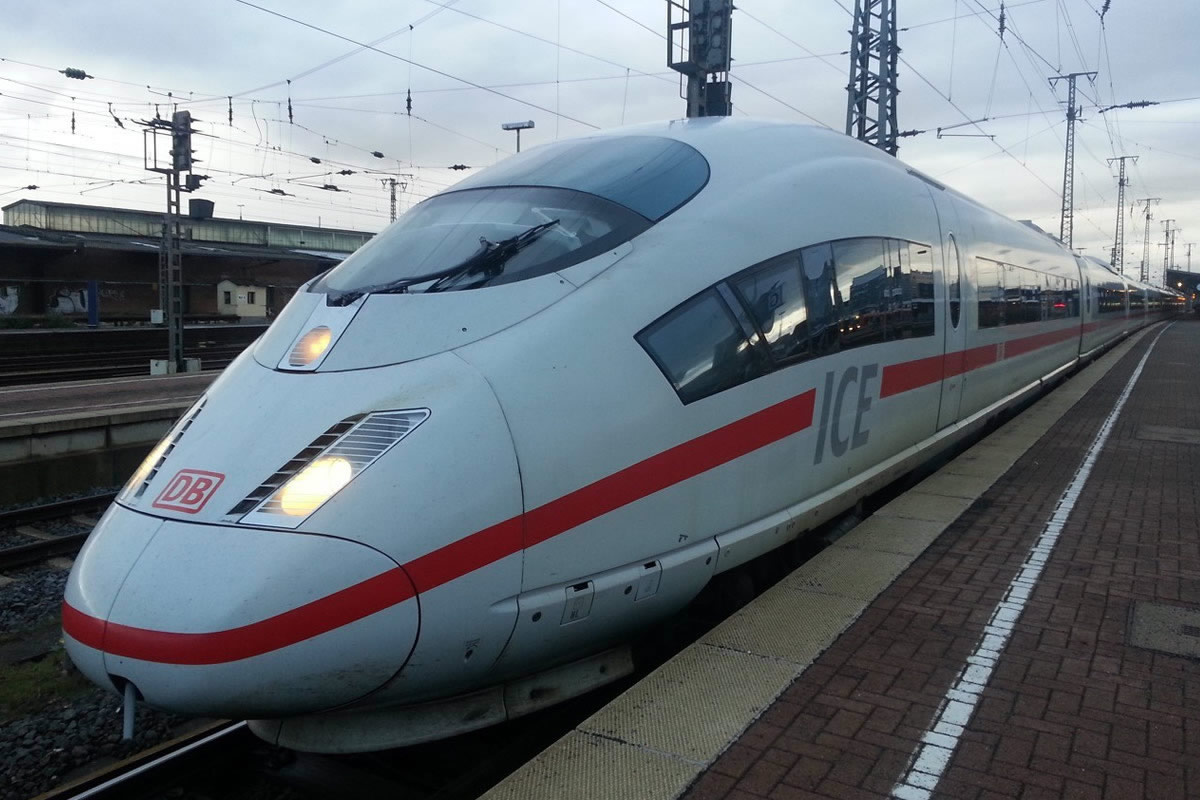hsrw: (59, 113, 1180, 759)
